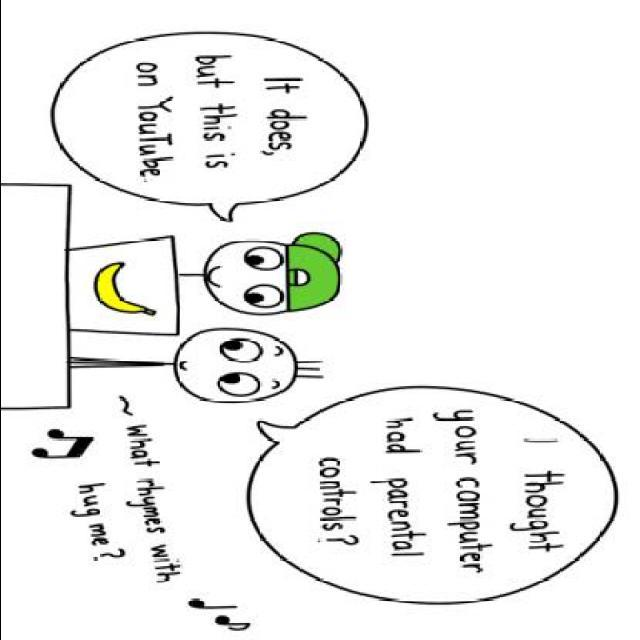Banana: (96, 260, 158, 314)
